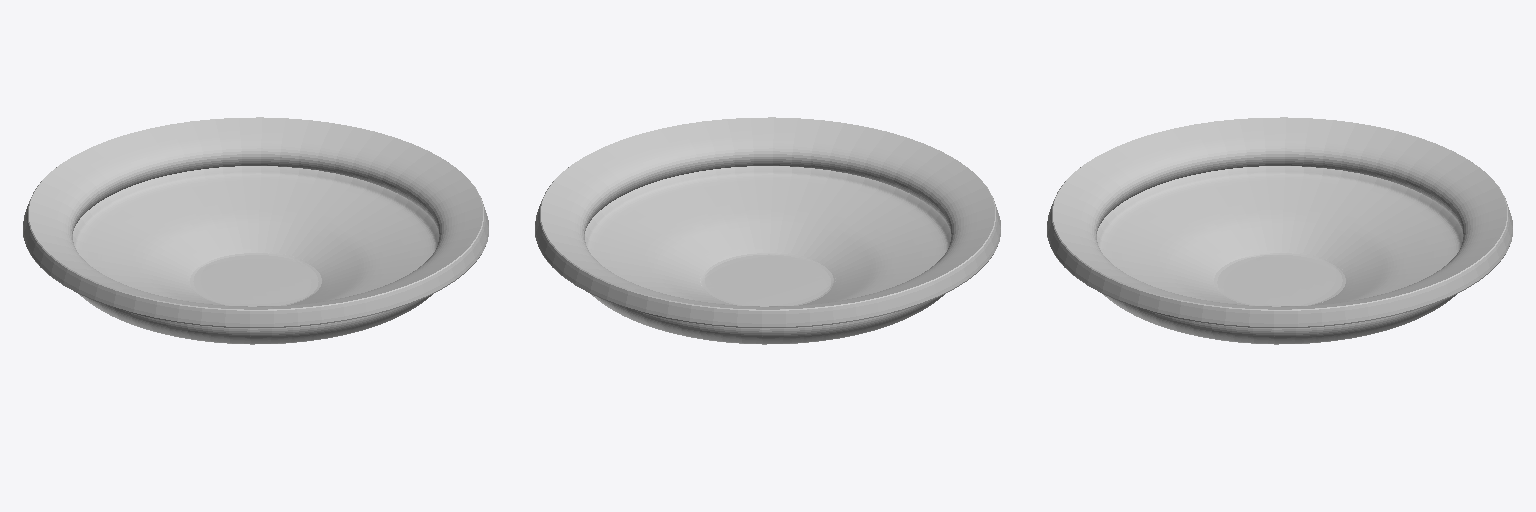
The model's file is fishbowl.obj.
3 views of the same model, side by side, from view 1: azimuth 30°, elevation 25°; view 2: azimuth 150°, elevation 25°; view 3: azimuth 270°, elevation 25° (orthographic).
Parts seen in each view (by area): view 1: plate4 Mesh, group2 plate4; view 2: plate4 Mesh, group2 plate4; view 3: plate4 Mesh, group2 plate4.
Part boxes in pixels (left/top/right/bottom): plate4 Mesh: left=23, top=117, right=488, bottom=344; group2 plate4: left=188, top=252, right=323, bottom=306; plate4 Mesh: left=535, top=117, right=1000, bottom=344; group2 plate4: left=700, top=252, right=835, bottom=306; plate4 Mesh: left=1047, top=117, right=1512, bottom=344; group2 plate4: left=1212, top=252, right=1347, bottom=306.
Size of the model in its own units: 1.69 by 0.3398 by 1.69.